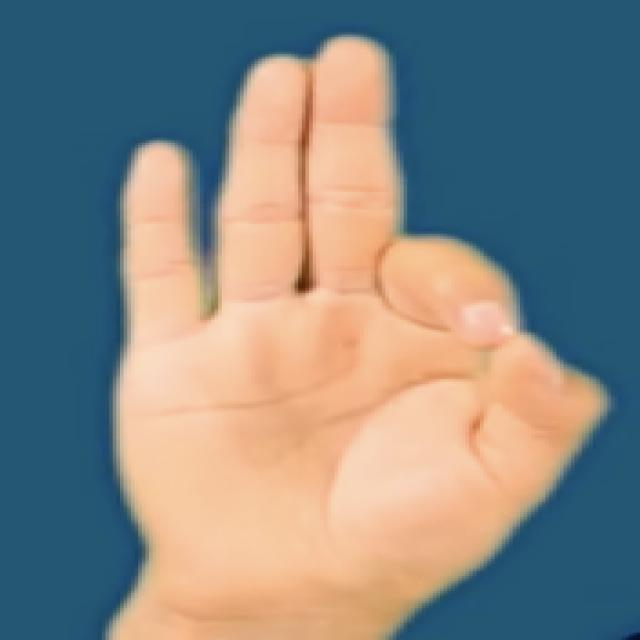F: (97, 22, 628, 611)
